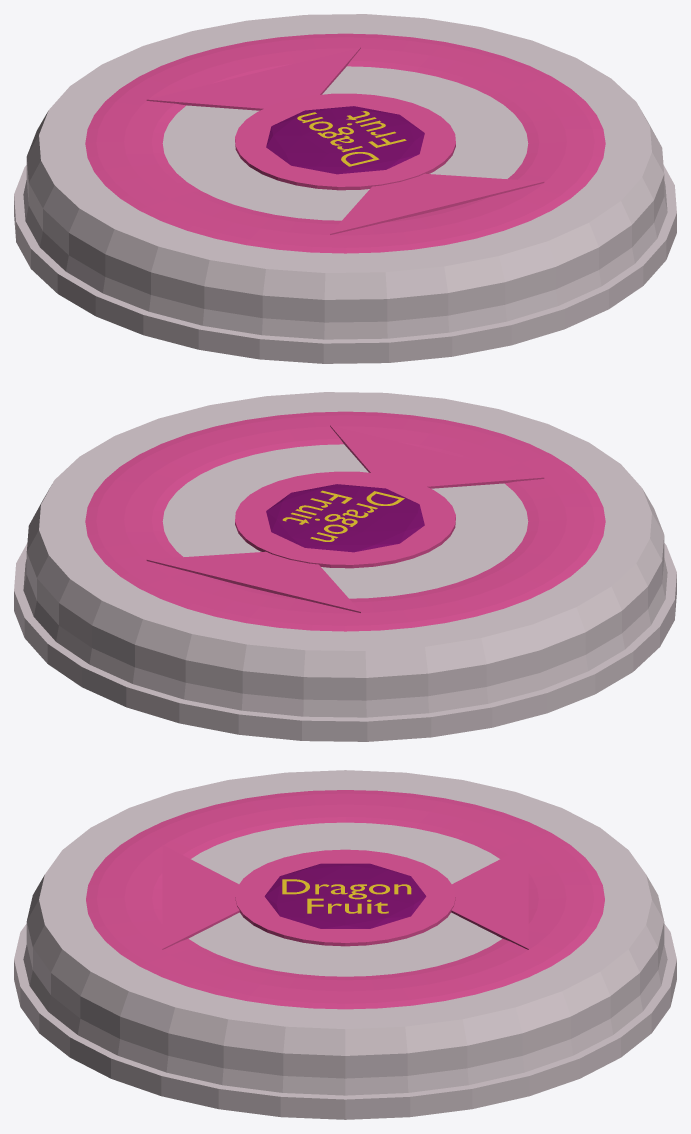
The model's file is pink_top.fbx.
3 renders of one model, top to bottom at view 1: azimuth 30°, elevation 25°; view 2: azimuth 150°, elevation 25°; view 3: azimuth 270°, elevation 25°, orthographic.
Visible parts, largest first — view 1: top blade, Torus, Cylinder, Icosphere, triangle.001, triangle, Drogon; view 2: top blade, Torus, Cylinder, Icosphere, triangle, triangle.001, Drogon; view 3: top blade, Torus, Cylinder, Icosphere, triangle, triangle.001, Drogon.
Boxes of the visible parts, x1,y1,x2,y2 form: top blade: [14, 14, 676, 363]; Torus: [85, 33, 605, 253]; Cylinder: [235, 93, 455, 190]; Icosphere: [266, 106, 424, 174]; triangle.001: [146, 47, 360, 110]; triangle: [330, 173, 544, 234]; Drogon: [297, 112, 379, 166]; top blade: [14, 392, 676, 741]; Torus: [85, 411, 605, 631]; Cylinder: [235, 471, 455, 568]; Icosphere: [266, 484, 424, 552]; triangle: [330, 425, 544, 488]; triangle.001: [146, 551, 360, 612]; Drogon: [310, 491, 404, 541]; top blade: [14, 770, 676, 1119]; Torus: [86, 790, 604, 1009]; Cylinder: [235, 849, 455, 946]; Icosphere: [264, 863, 426, 928]; triangle: [162, 844, 239, 949]; triangle.001: [451, 844, 528, 949]; Drogon: [282, 879, 411, 899].
Size of the model in its own units: 900 by 130 by 900.
